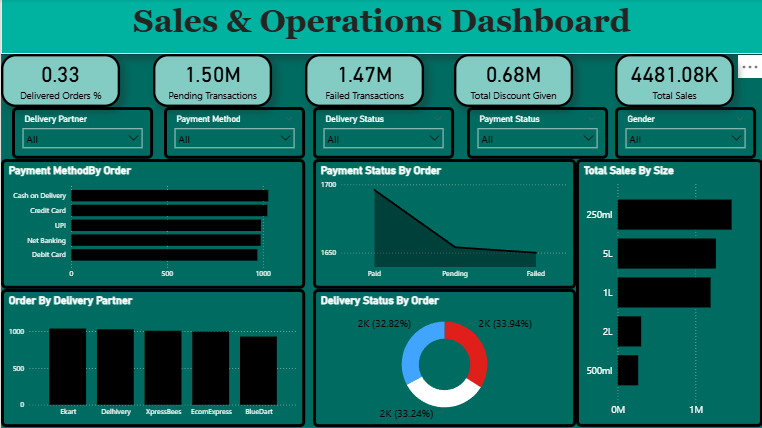

The dashboard page shown, as its layout file describes it:
{"tool":"powerbi","page":{"name":"Page 4","canvas":[1280,720],"ordinal":3},"visuals":[{"type":"shape","box":[0,0,1280,720.1],"z":0},{"type":"textbox","box":[0,0,1279.6,92.6],"z":1000},{"type":"card","fields":{"Values":["bisleri_dataset.Delivered Orders %"]},"box":[0,92.4,199.9,89],"z":2000},{"type":"card","fields":{"Values":["bisleri_dataset.Total Discount Given"]},"box":[760.9,92.4,199.9,89],"z":3000},{"type":"card","fields":{"Values":["bisleri_dataset.Pending Transactions"]},"box":[255.3,92.4,199.9,89],"z":4000},{"type":"card","fields":{"Values":["bisleri_dataset.Failed Transactions"]},"box":[510.7,92.4,199.9,89],"z":5000},{"type":"columnChart","title":"Order By Delivery Partner","fields":{"Y":["bisleri_dataset.Total Orders"],"Category":["bisleri_dataset.Delivery Partner"]},"box":[0,487.7,510.6,232.4],"z":6000},{"type":"donutChart","title":"Delivery Status By Order","fields":{"Category":["bisleri_dataset.Delivery Status"],"Y":["bisleri_dataset.Total Orders"]},"box":[524.7,487.7,441.9,232.4],"z":7000},{"type":"areaChart","title":"Payment Status By Order","fields":{"Category":["bisleri_dataset.Payment Status"],"Y":["bisleri_dataset.Total Orders"]},"box":[524.1,268.8,441.8,218.4],"z":8000},{"type":"barChart","title":"Payment MethodBy Order","fields":{"Category":["bisleri_dataset.Payment Method"],"Y":["bisleri_dataset.Total Orders"]},"box":[0,268.8,510.7,218.4],"z":9000},{"type":"barChart","title":"Total Sales By Size","fields":{"Category":["bisleri_dataset.Size"],"Y":["bisleri_dataset.Total Sales"]},"box":[965.9,268.8,314.1,450.2],"z":10000},{"type":"slicer","title":"Products by Total Sales","fields":{"Values":["bisleri_dataset.Delivery Partner"]},"box":[18.5,181.4,236.9,87.3],"z":11000},{"type":"slicer","title":"Products by Total Sales","fields":{"Values":["bisleri_dataset.Payment Method"]},"box":[273.8,181.4,236.9,87.3],"z":12000},{"type":"slicer","title":"Products by Total Sales","fields":{"Values":["bisleri_dataset.Gender"]},"box":[1031.4,181.4,236.9,87.3],"z":13000},{"type":"slicer","title":"Products by Total Sales","fields":{"Values":["bisleri_dataset.Payment Status"]},"box":[782.8,181.4,236.9,87.3],"z":14000},{"type":"slicer","title":"Products by Total Sales","fields":{"Values":["bisleri_dataset.Delivery Status"]},"box":[524.1,181.4,236.9,87.3],"z":15000},{"type":"card","fields":{"Values":["bisleri_dataset.Total Sales"]},"box":[1031.4,92.4,199.9,89],"z":16000}]}

Visuals, with their boxes in screenshot pixels (x1, y1, x2, y2), scaled from the page's 1280x720 canvas onto the 762x428 screenshot:
shape: box=[0, 0, 761, 427]
textbox: box=[0, 0, 761, 55]
card - bisleri_dataset.Delivered Orders %: box=[0, 55, 119, 108]
card - bisleri_dataset.Total Discount Given: box=[453, 55, 572, 108]
card - bisleri_dataset.Pending Transactions: box=[152, 55, 271, 108]
card - bisleri_dataset.Failed Transactions: box=[304, 55, 423, 108]
"Order By Delivery Partner" columnChart: box=[0, 290, 304, 427]
"Delivery Status By Order" donutChart: box=[312, 290, 575, 427]
"Payment Status By Order" areaChart: box=[312, 160, 575, 290]
"Payment MethodBy Order" barChart: box=[0, 160, 304, 290]
"Total Sales By Size" barChart: box=[575, 160, 761, 427]
"Products by Total Sales" slicer: box=[11, 108, 152, 160]
"Products by Total Sales" slicer: box=[163, 108, 304, 160]
"Products by Total Sales" slicer: box=[614, 108, 755, 160]
"Products by Total Sales" slicer: box=[466, 108, 607, 160]
"Products by Total Sales" slicer: box=[312, 108, 453, 160]
card - bisleri_dataset.Total Sales: box=[614, 55, 733, 108]
